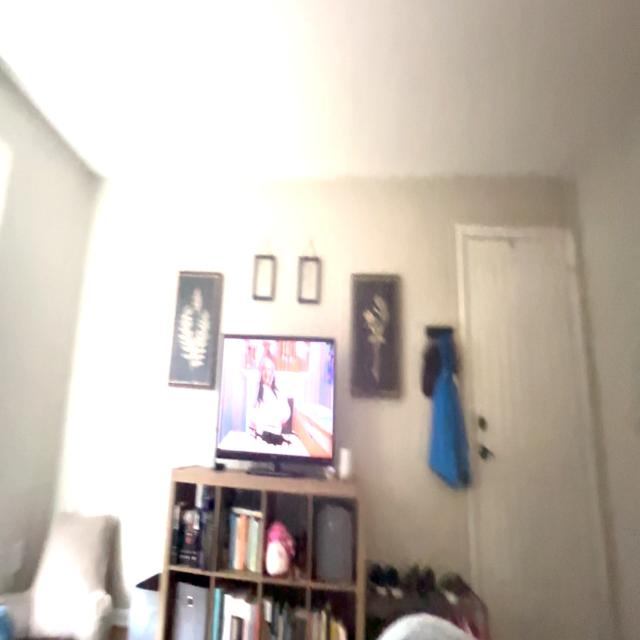drone: (241, 407, 291, 462)
